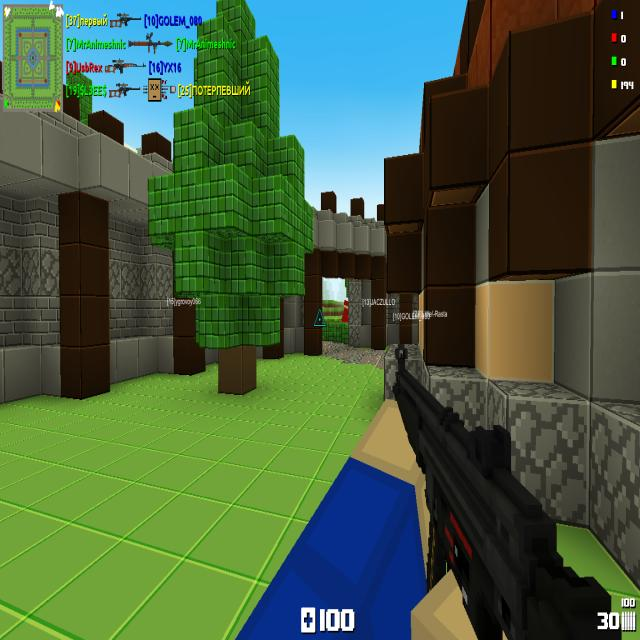enemy: (341, 300, 349, 322)
